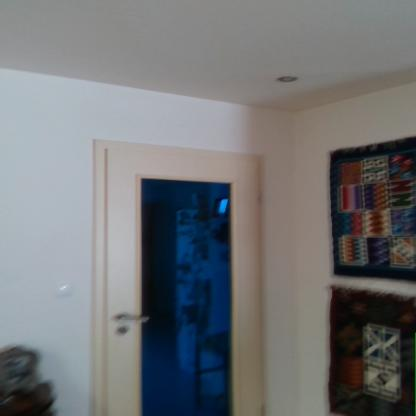closed: (64, 145, 265, 416)
